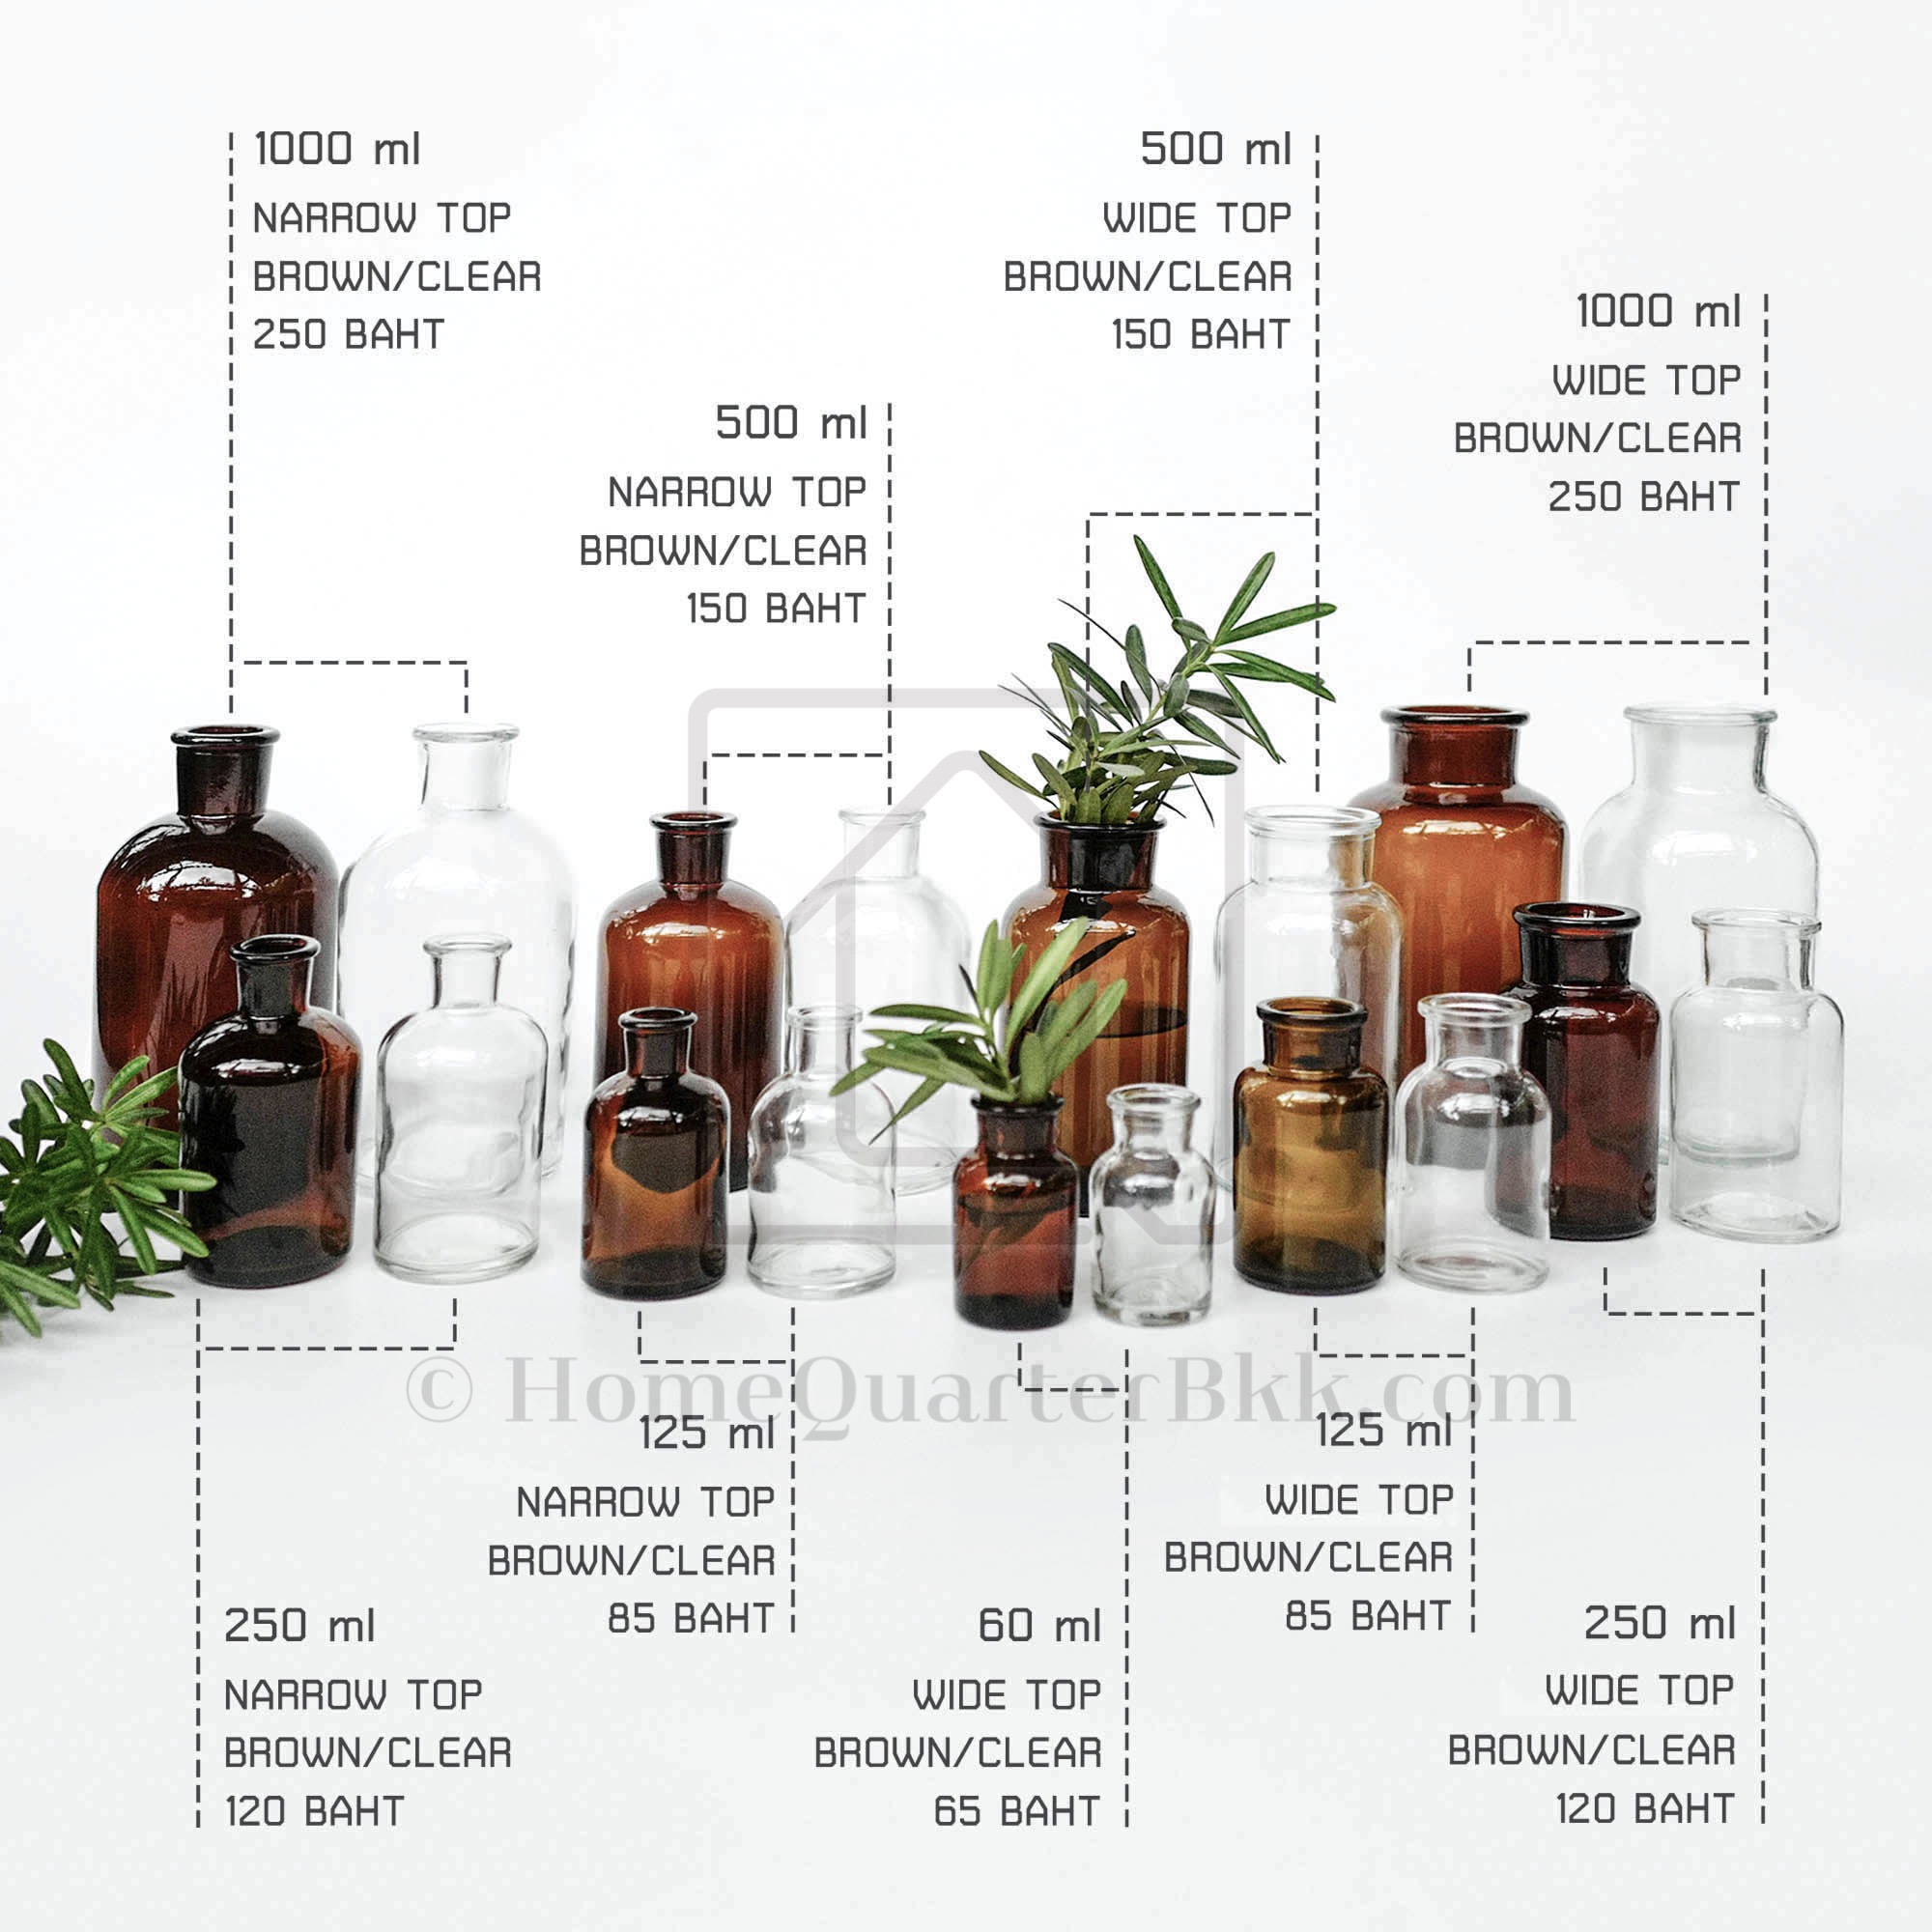glass_bottleww: (30, 605, 380, 1398), (1532, 515, 1886, 1286), (318, 563, 591, 1371), (961, 495, 1235, 1253), (579, 586, 819, 1424), (1200, 669, 1424, 1447), (1332, 522, 1621, 1123), (1633, 830, 1867, 1380), (356, 851, 591, 1394), (143, 842, 373, 1368), (1442, 860, 1670, 1323), (722, 924, 918, 1435), (1366, 924, 1578, 1389), (1215, 952, 1424, 1419), (552, 973, 748, 1403), (924, 957, 1088, 1424), (1049, 1007, 1207, 1440)
